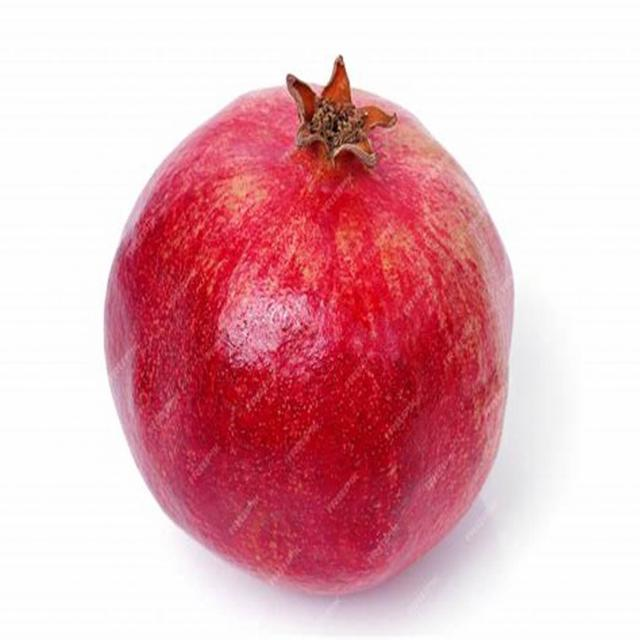Pomegranate: (105, 56, 513, 595)
